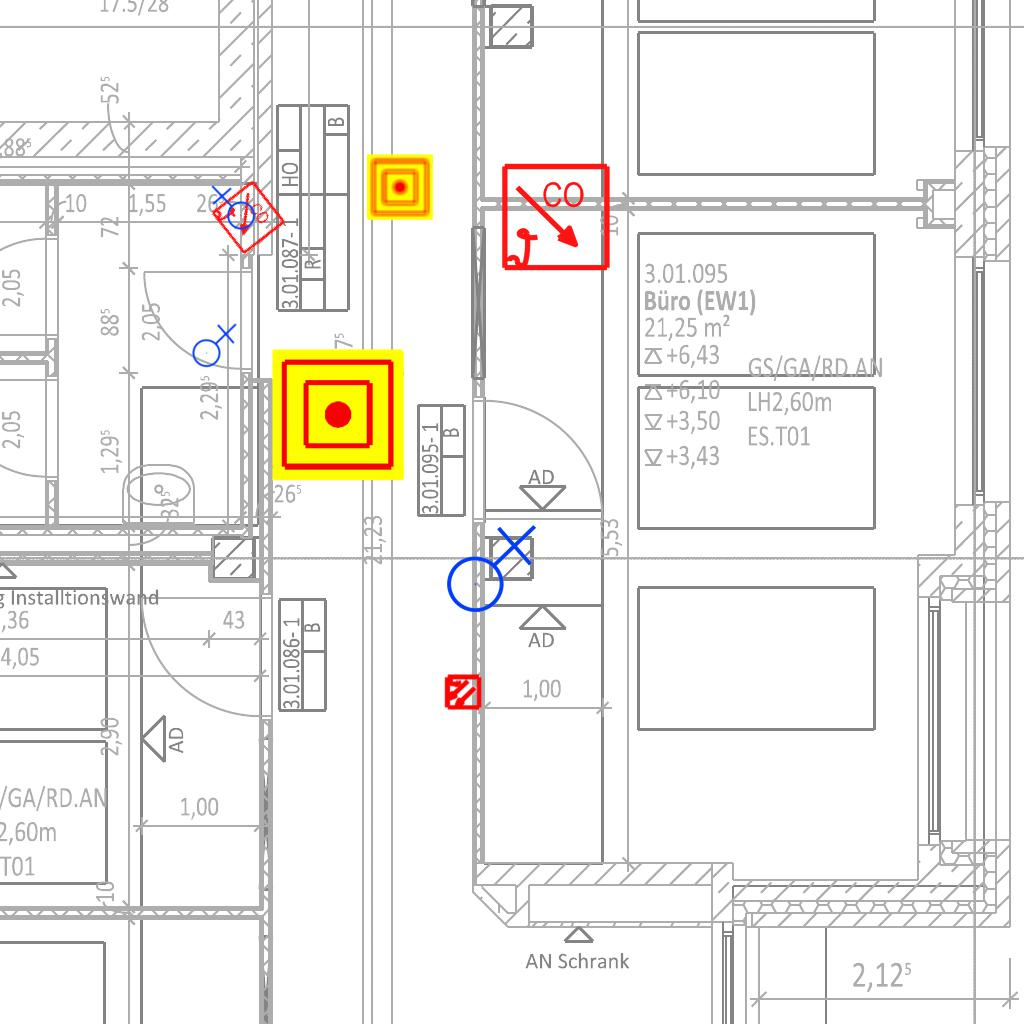Elektroanschluss_allgemein_230V_Geraeteanschlussdose_230V: (438, 520, 537, 614), (188, 321, 237, 368), (209, 185, 256, 234)
NAM-Nichtautomatischer_Melder: (272, 349, 404, 481), (367, 154, 433, 220)
OT_Multisensormelder_(Kombination_RMO_WMD): (434, 664, 490, 720)
ROA_Rauchmelder_optisch_mit_Signalgeber_(Sockelsirene): (500, 162, 613, 275), (208, 178, 288, 258)
